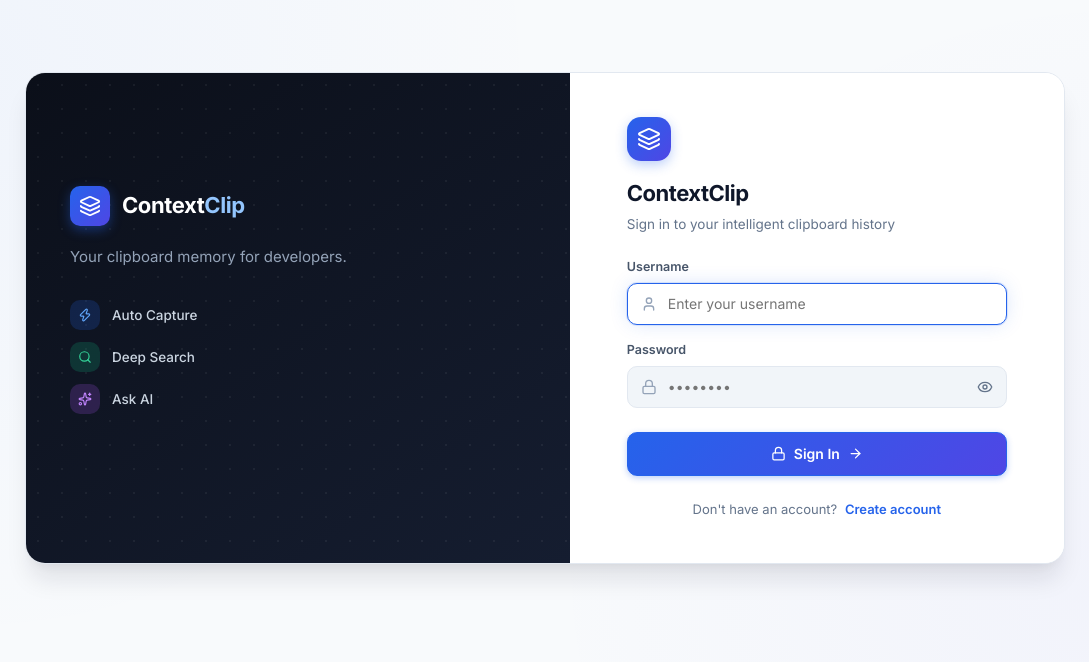
ContextClip Authentication and Application UI Tests › 1. Authentication Flow (Login & Register) › 7. Successful registration redirects to login with success message
This screenshot has width=1089, height=662.
Step 1. Click the button with test id "link-to-register" → (893, 509), box [845,501,941,517]
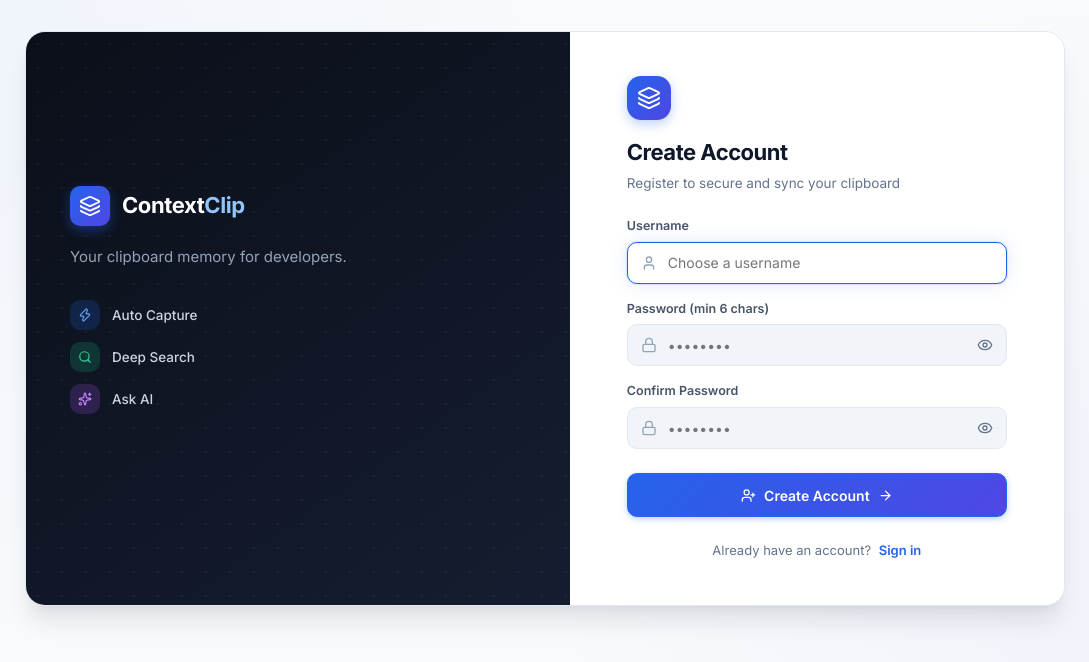
Step 2. Type "newuser" into the field with test id "register-username" → (817, 262), box [627,242,1007,284]
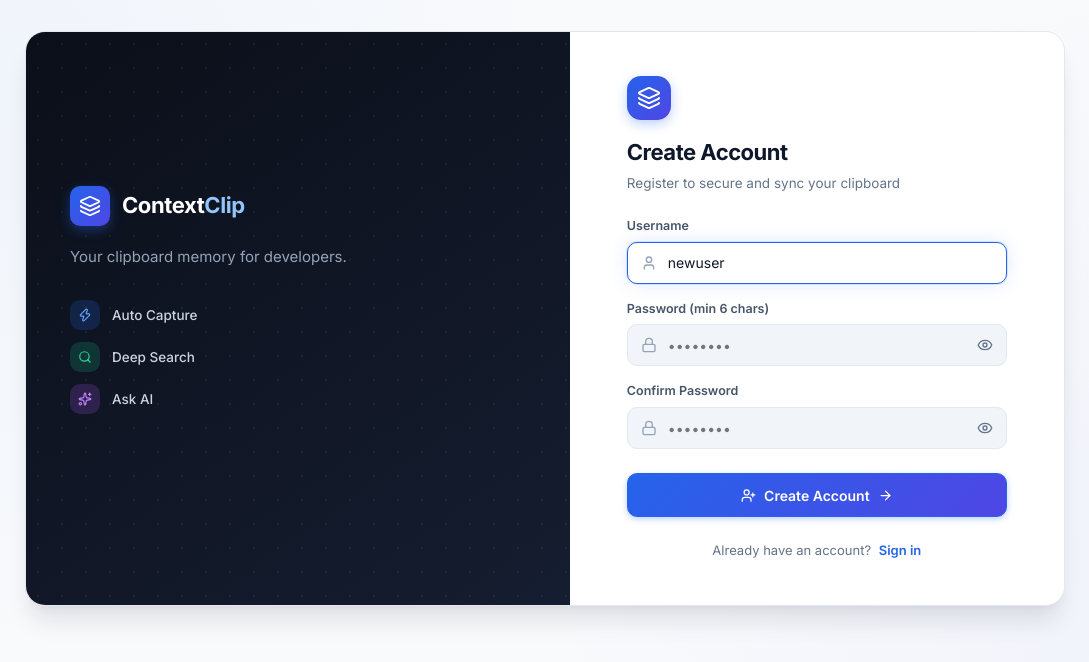
Step 3. Type "Password123!" into the password field with test id "register-password" → (817, 345), box [627,324,1007,366]
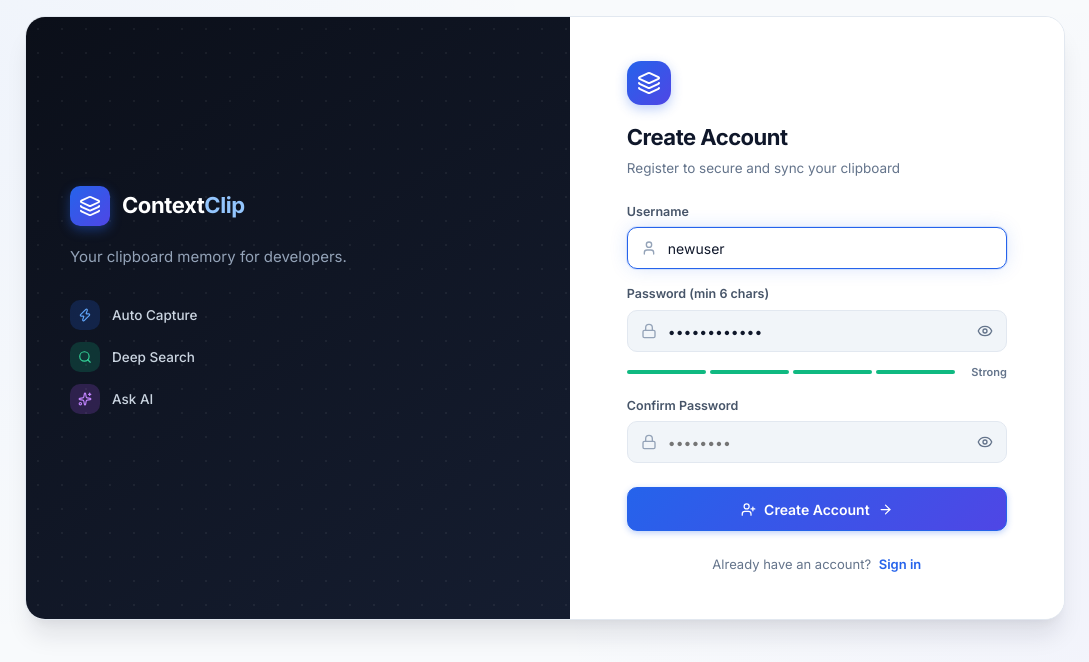
Step 4. Type "Password123!" into the password field with test id "register-confirm-password" → (817, 442), box [627,421,1007,463]
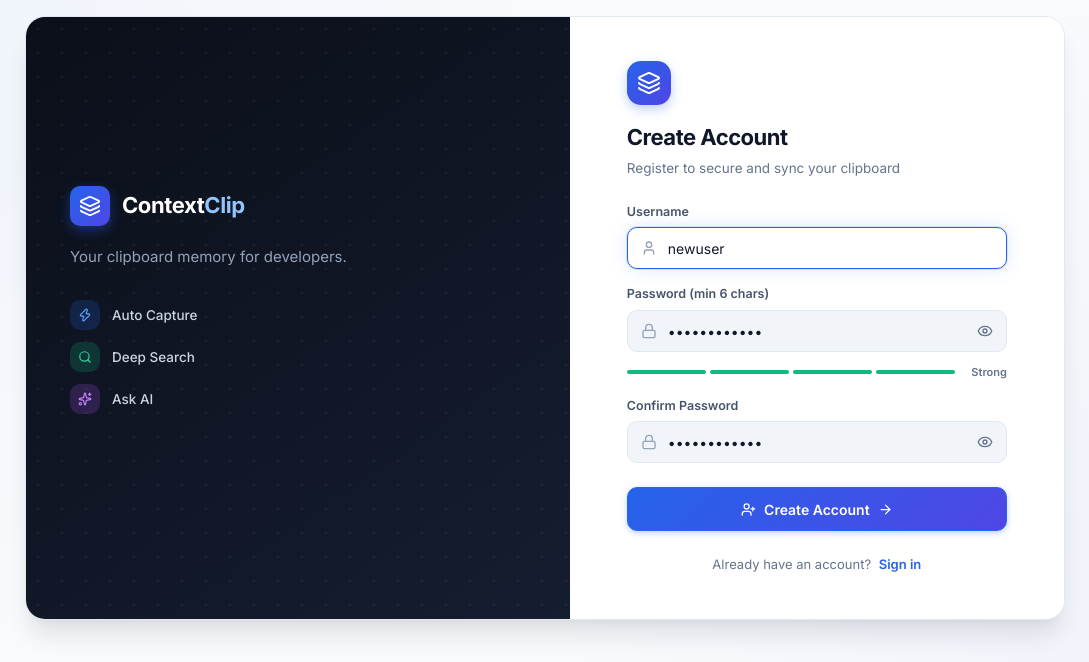
Step 5. Click the button with test id "register-submit" → (817, 509), box [627,487,1007,531]
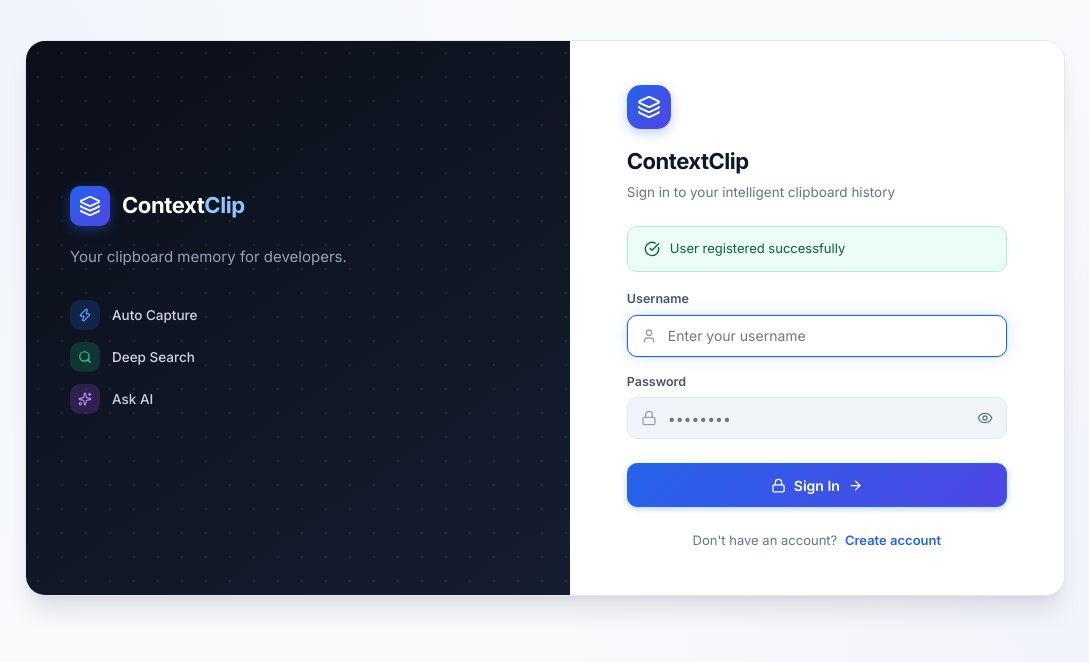
Expected: the element with test id "login-card" is shown, [627,85,1007,551]
Expected: the message "User registered successfully" is shown, [627,226,1007,272]
Expected: the text "User registered successfully" is shown, [670,239,845,259]
